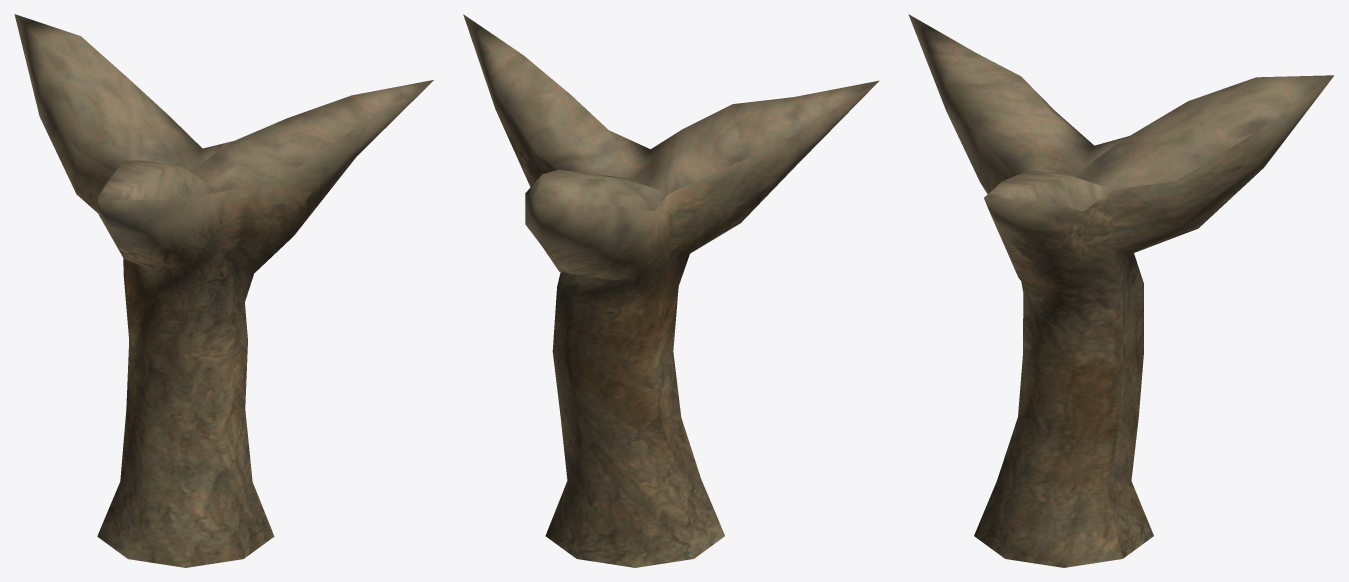
The model's file is apple-tree-trunk.fbx.
The picture shows the model from 3 angles, left to right: view 1: azimuth 30°, elevation 25°; view 2: azimuth 150°, elevation 25°; view 3: azimuth 270°, elevation 25°; orthographic projection.
Parts seen in each view (by area): view 1: Trunk; view 2: Trunk; view 3: Trunk.
Part boxes in pixels (bbox=[...]): Trunk: bbox=[14, 14, 433, 567]; Trunk: bbox=[463, 14, 879, 567]; Trunk: bbox=[908, 14, 1334, 567].
Size of the model in its own units: 14.8 by 16.19 by 14.37.
1 material, 1 textured.
